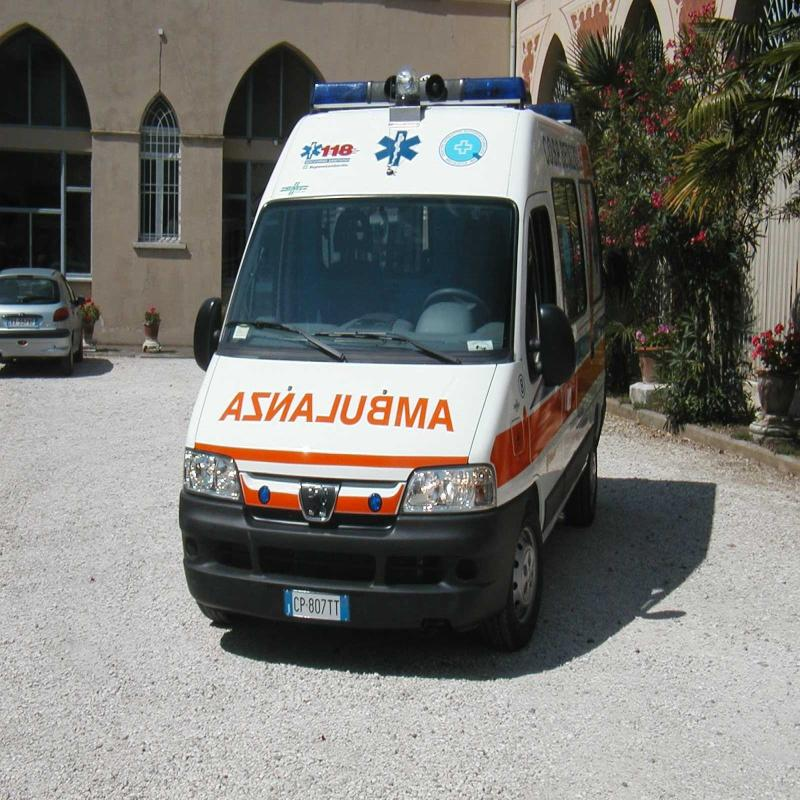AmbulanceSiren: (314, 69, 573, 124)
